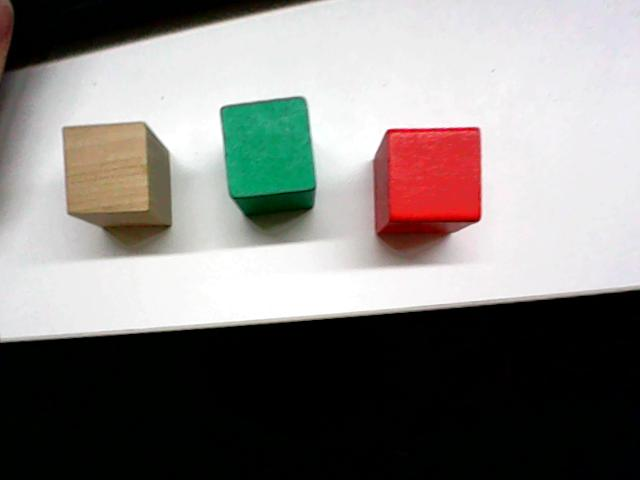green_box: (216, 92, 319, 219)
raw_box: (59, 122, 174, 231)
red_box: (370, 121, 486, 239)
